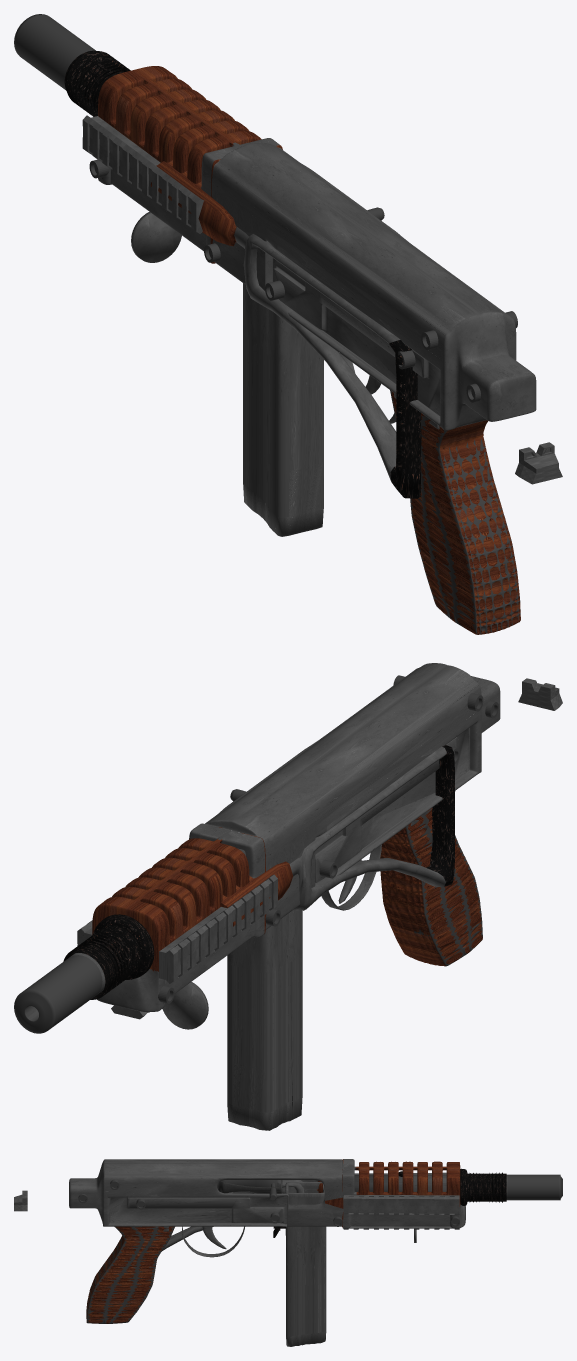
File: thompson.glb
3 renders of one model, top to bottom at view 1: azimuth 30°, elevation 25°; view 2: azimuth 150°, elevation 25°; view 3: azimuth 270°, elevation 25°, orthographic. The views are drawn at different scales.
Parts seen in each view (by area): view 1: thompson_model; view 2: thompson_model; view 3: thompson_model.
Part boxes in pixels (x1,y1,x2,y2): thompson_model: [14, 14, 562, 634]; thompson_model: [14, 663, 562, 1130]; thompson_model: [14, 1159, 562, 1346].
Size of the model in its own units: 0.1398 by 0.3987 by 1.1.
Materials: 7 (4 with a texture image).
